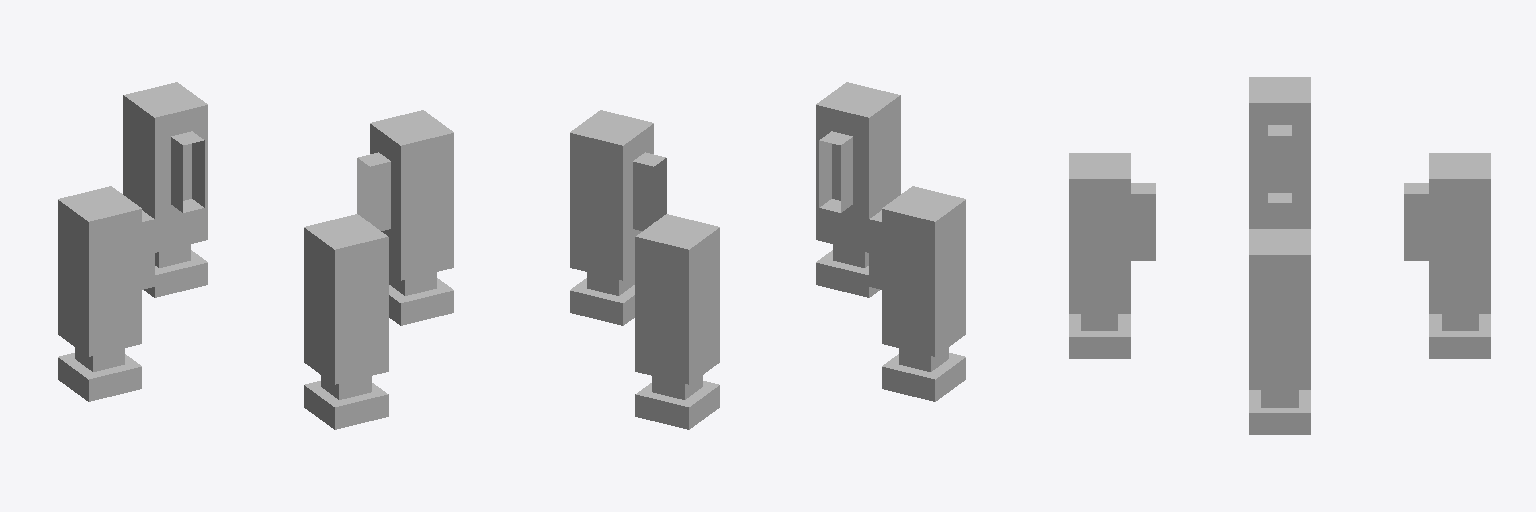
Rendered from rocket_thruster_tier_1.obj.
3 views of the same model, side by side, from view 1: azimuth 30°, elevation 25°; view 2: azimuth 150°, elevation 25°; view 3: azimuth 270°, elevation 25° (orthographic).
Visible parts, largest first — view 1: Cube.024_Cube.041; view 2: Cube.024_Cube.041; view 3: Cube.024_Cube.041.
Boxes of the visible parts, <box> form: Cube.024_Cube.041: <box>58,82,453,429</box>; Cube.024_Cube.041: <box>570,82,965,429</box>; Cube.024_Cube.041: <box>1069,77,1490,434</box>.
Bounding box in the file's own units: 2.12 × 1 × 2.12.